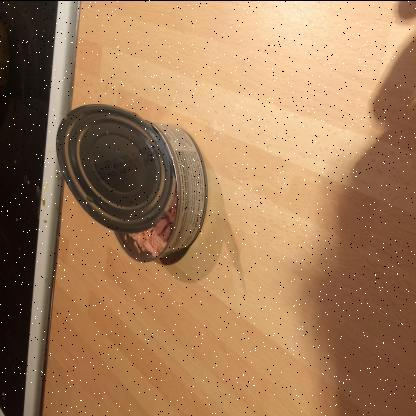metal: (56, 102, 208, 262)
